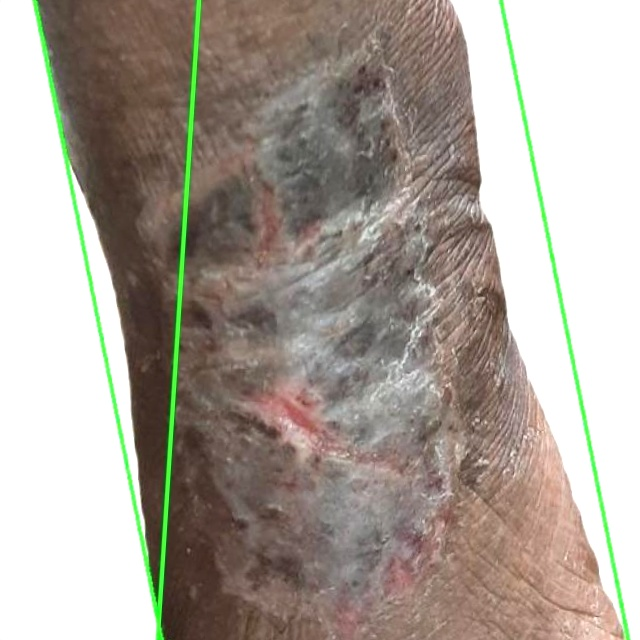Eczema: (34, 0, 626, 639), (0, 0, 199, 639)
